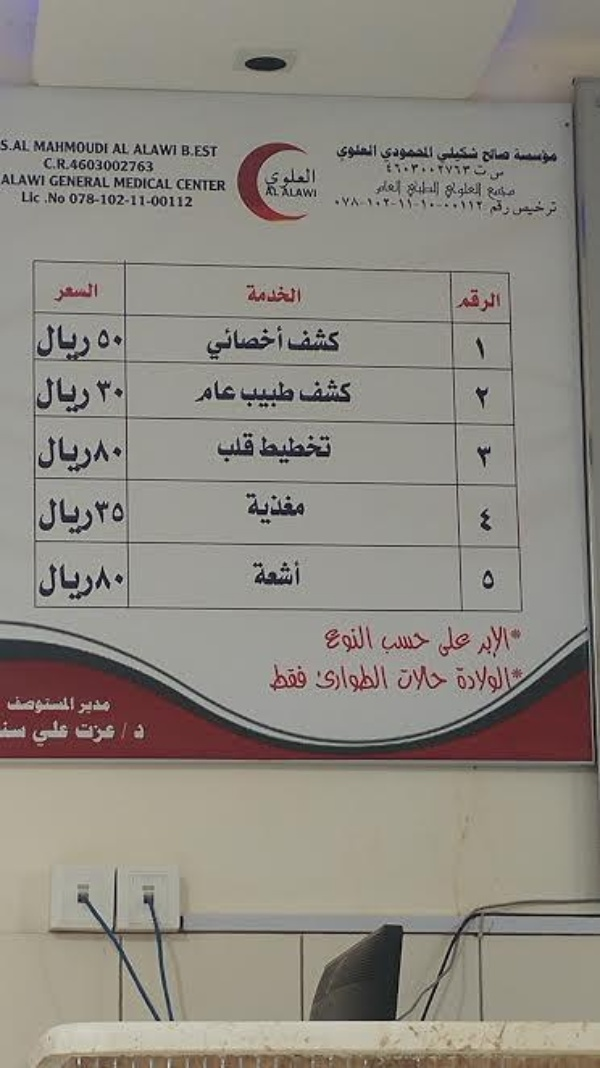text: (49, 497, 64, 538), (65, 497, 80, 538), (81, 497, 96, 538), (49, 560, 64, 601), (65, 560, 80, 601), (497, 623, 513, 660), (49, 375, 64, 414), (65, 375, 80, 414), (49, 436, 64, 475), (65, 436, 80, 475), (497, 665, 513, 701), (209, 323, 224, 360), (225, 323, 240, 360), (241, 323, 256, 360), (257, 323, 272, 360), (49, 323, 64, 360), (65, 323, 80, 360), (465, 665, 480, 701), (481, 665, 496, 701), (257, 491, 272, 526), (273, 491, 288, 526), (289, 491, 304, 526), (225, 431, 240, 464), (273, 660, 288, 693), (289, 660, 304, 693), (483, 623, 496, 660), (321, 623, 336, 655), (337, 623, 352, 655), (353, 623, 368, 655), (273, 433, 288, 465), (289, 433, 304, 465), (305, 433, 320, 465), (321, 662, 336, 694), (337, 662, 352, 694), (353, 662, 368, 694), (369, 662, 384, 694), (449, 625, 464, 657), (36, 375, 48, 414), (36, 436, 48, 475), (257, 557, 272, 588), (273, 557, 288, 588), (241, 431, 255, 464), (81, 560, 92, 601), (241, 380, 256, 410), (257, 380, 272, 410), (273, 380, 288, 410), (401, 664, 416, 694), (417, 664, 432, 694), (433, 664, 448, 694), (49, 720, 64, 749), (81, 436, 92, 475), (244, 491, 256, 526), (259, 433, 272, 465), (38, 497, 48, 538), (273, 323, 284, 360), (34, 720, 48, 749), (465, 286, 480, 313), (481, 286, 496, 313), (97, 564, 112, 591), (81, 375, 91, 414), (97, 499, 112, 525), (97, 438, 112, 464), (321, 433, 333, 465), (417, 631, 433, 655), (289, 557, 301, 588), (38, 323, 48, 360), (81, 323, 91, 360), (305, 380, 320, 404), (321, 380, 336, 404), (337, 380, 352, 404), (289, 328, 304, 352), (305, 328, 320, 352), (321, 328, 336, 352), (209, 380, 224, 404), (97, 378, 112, 402), (454, 665, 464, 701), (385, 631, 400, 655), (401, 631, 416, 655), (17, 691, 32, 715), (33, 691, 48, 715), (49, 691, 64, 715), (97, 326, 112, 349), (65, 281, 80, 304), (81, 281, 96, 304), (481, 568, 496, 591), (385, 178, 400, 201), (401, 178, 416, 201), (417, 178, 432, 201), (433, 178, 448, 201), (449, 178, 464, 201), (465, 178, 480, 201), (481, 178, 496, 201), (497, 178, 512, 201), (257, 283, 272, 305), (273, 283, 288, 305), (81, 722, 96, 744), (97, 722, 112, 744), (273, 167, 288, 189), (289, 167, 304, 189), (113, 564, 125, 591), (1, 722, 16, 743), (449, 142, 464, 163), (465, 142, 480, 163), (225, 380, 238, 404), (113, 499, 125, 525), (65, 691, 78, 715), (242, 283, 256, 305), (481, 505, 492, 533), (481, 384, 492, 412), (97, 696, 113, 715), (371, 178, 384, 201), (481, 443, 492, 470), (497, 199, 513, 217), (41, 560, 48, 601), (289, 283, 302, 305), (81, 696, 96, 715), (81, 191, 96, 209), (97, 191, 112, 209), (113, 191, 128, 209), (129, 191, 144, 209), (145, 191, 160, 209), (161, 191, 176, 209), (177, 191, 192, 209), (513, 147, 528, 165), (529, 147, 544, 165), (305, 167, 317, 189), (470, 334, 480, 360), (113, 438, 123, 464), (513, 201, 528, 218), (529, 201, 544, 218), (337, 196, 352, 213), (353, 196, 368, 213), (369, 196, 384, 213), (385, 196, 400, 213), (401, 196, 416, 213), (417, 196, 432, 213), (433, 196, 448, 213), (449, 196, 464, 213), (465, 196, 480, 213), (471, 384, 480, 412), (545, 147, 559, 165), (436, 142, 448, 163), (113, 378, 123, 402), (49, 157, 64, 173), (65, 157, 80, 173), (81, 157, 96, 173), (97, 157, 112, 173), (113, 157, 128, 173), (129, 157, 144, 173), (33, 139, 48, 155), (49, 139, 64, 155), (65, 139, 80, 155), (81, 139, 96, 155), (481, 165, 496, 181), (385, 146, 400, 162), (401, 146, 416, 162), (417, 146, 432, 162), (337, 144, 352, 160), (353, 144, 368, 160), (545, 201, 559, 218), (67, 191, 80, 209), (17, 722, 28, 743), (273, 184, 288, 199), (289, 184, 304, 199), (113, 176, 128, 191), (129, 176, 144, 191), (145, 176, 160, 191), (145, 142, 160, 157), (161, 142, 176, 157), (193, 144, 208, 159), (313, 662, 320, 694), (249, 557, 256, 588), (7, 691, 16, 715), (289, 380, 296, 410), (49, 191, 64, 205), (49, 175, 64, 189), (65, 175, 80, 189), (81, 175, 96, 189), (97, 175, 112, 189), (177, 178, 192, 192), (193, 178, 208, 192), (209, 178, 224, 192), (385, 162, 400, 176), (401, 162, 416, 176), (417, 162, 432, 176), (433, 162, 448, 176), (449, 162, 464, 176), (497, 149, 512, 163), (481, 334, 489, 360), (97, 139, 110, 155), (218, 431, 224, 464), (305, 184, 318, 199), (1, 173, 16, 186), (17, 173, 32, 186), (1, 139, 16, 152), (113, 142, 128, 155), (369, 623, 375, 655), (442, 625, 448, 657), (134, 722, 144, 741), (113, 326, 121, 349), (33, 173, 47, 186), (17, 139, 31, 152), (483, 149, 496, 163), (161, 176, 173, 191), (297, 380, 304, 404), (181, 144, 192, 159), (209, 144, 220, 159), (57, 281, 64, 304), (513, 178, 520, 201), (465, 625, 470, 657), (145, 157, 155, 173), (497, 165, 507, 181), (73, 722, 80, 744), (265, 167, 272, 189), (449, 664, 454, 694), (134, 142, 144, 157), (121, 720, 128, 741), (65, 720, 70, 749), (202, 380, 208, 404), (488, 199, 496, 217), (471, 165, 480, 181), (369, 144, 378, 160), (21, 191, 32, 204), (33, 191, 44, 204), (497, 286, 502, 313), (475, 443, 480, 470), (263, 184, 272, 199), (305, 660, 309, 693), (385, 662, 389, 694), (481, 196, 488, 213), (476, 505, 480, 533), (465, 162, 473, 176), (92, 499, 96, 525), (337, 328, 341, 352), (42, 157, 48, 173), (397, 664, 400, 694), (113, 722, 117, 744), (331, 196, 336, 213), (305, 491, 307, 526), (462, 286, 464, 313), (94, 438, 96, 464), (94, 378, 96, 402), (97, 281, 99, 304), (207, 323, 208, 360), (271, 660, 272, 693), (334, 144, 336, 160), (239, 380, 240, 410), (46, 191, 48, 205), (65, 191, 67, 205), (383, 631, 384, 655), (129, 720, 130, 741), (145, 722, 146, 741), (193, 191, 194, 209), (383, 146, 384, 162), (433, 146, 434, 162), (177, 142, 178, 157), (225, 178, 226, 192), (129, 142, 130, 155)
